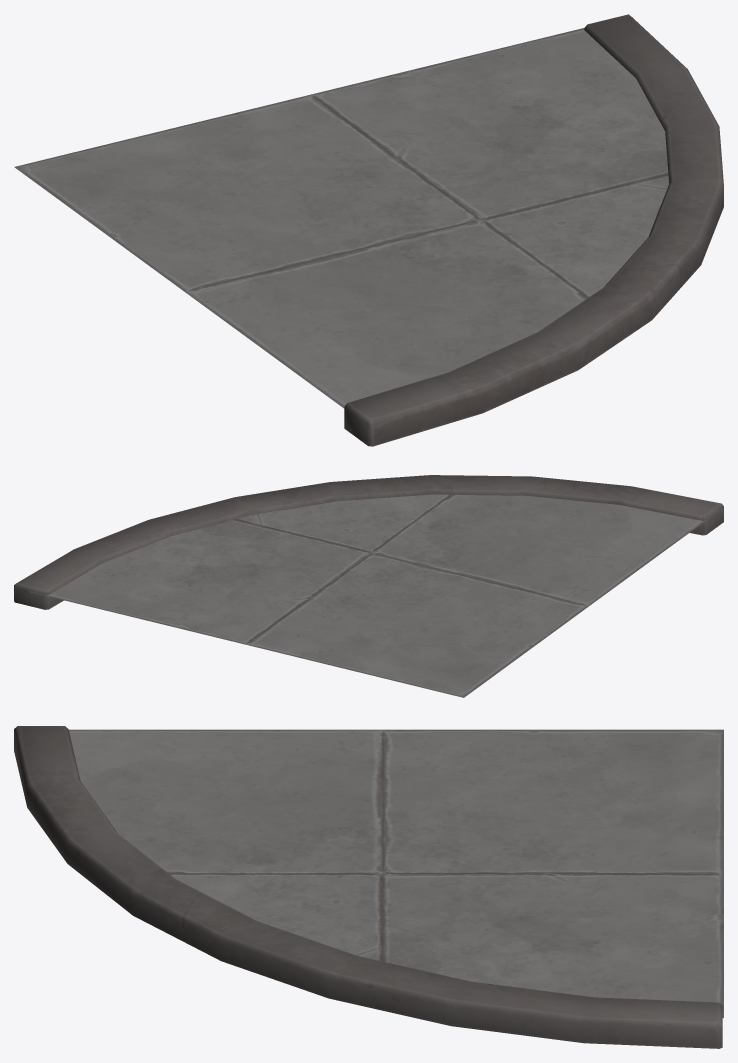
The model's file is SM_Floor_06.glb.
3 views of the same model, one above another, from view 1: azimuth 30°, elevation 25°; view 2: azimuth 150°, elevation 25°; view 3: azimuth 270°, elevation 25° (orthographic). The views are drawn at different scales.
Visible parts, largest first — view 1: SM_Floor_06; view 2: SM_Floor_06; view 3: SM_Floor_06.
Part boxes in pixels (x1,y1,x2,y2): SM_Floor_06: (14,14,723,446); SM_Floor_06: (14,475,723,697); SM_Floor_06: (14,726,723,1048).
Bounding box in the file's own units: 1.3 × 0.05 × 1.3.
Materials: 2 (2 with a texture image).
